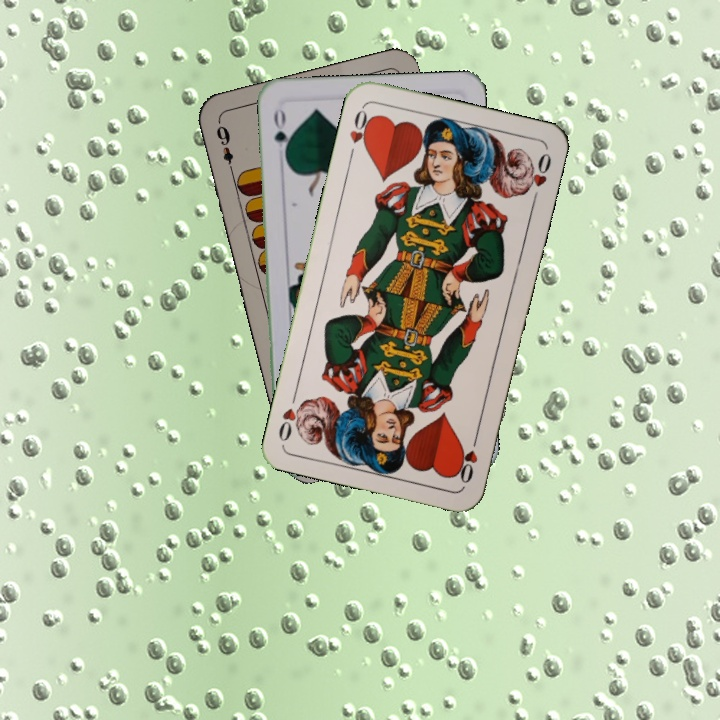E9: (212, 119, 237, 177)
GO: (270, 103, 293, 162)
HO: (345, 103, 375, 162), (453, 429, 481, 486)
